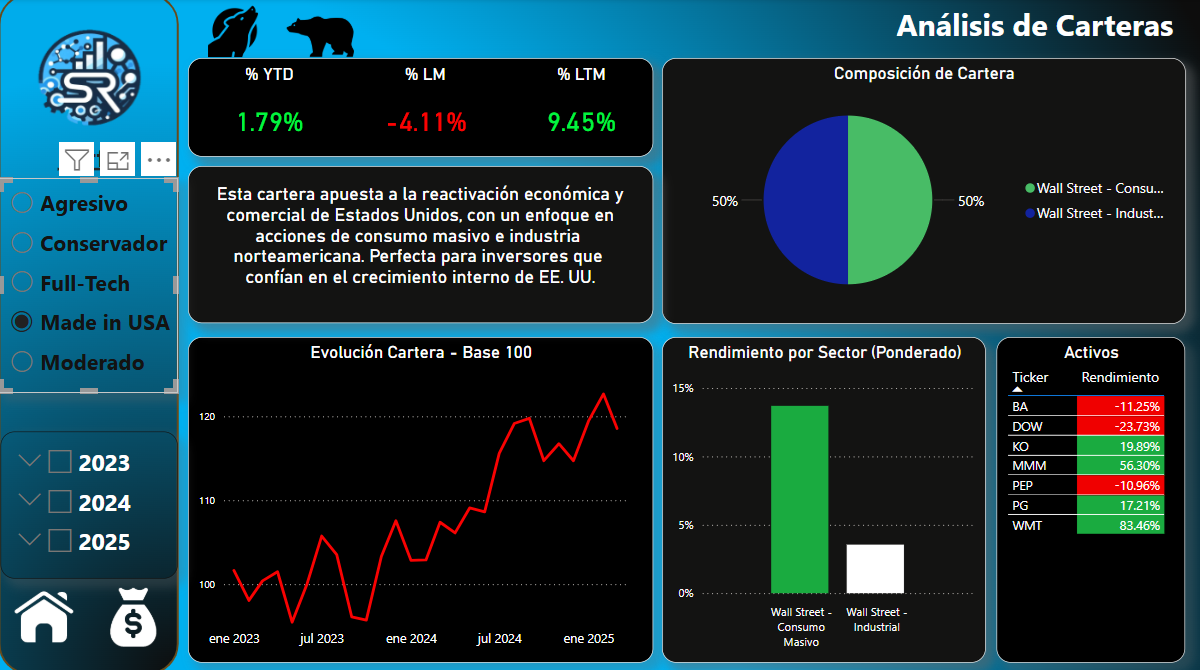

This screenshot's page, from the dashboard's own definition file:
{"tool":"powerbi","page":{"name":"Análisis de Carteras","canvas":[1280,720],"ordinal":1},"visuals":[{"type":"shape","box":[200,63.6,493,105],"z":0},{"type":"lineChart","title":"Evolución Cartera - Base 100","fields":{"Series":["carteras_desc.Cartera"],"Y":["Medidas.Rendimiento Total Cartera","select1"],"Category":["Calendario.Date.Variación.Jerarquía de fechas.Año","Calendario.Date.Variación.Jerarquía de fechas.Trimestre","Calendario.Date.Variación.Jerarquía de fechas.Mes"]},"box":[200,360,493.3,345],"z":1000},{"type":"pieChart","title":"Composición de Cartera","fields":{"Category":["carteras_comp.Tipo_activo"],"Y":["Sum(carteras_comp.Porcentaje)"]},"box":[703.3,63.3,555,281.7],"z":2000},{"type":"clusteredColumnChart","title":"Rendimiento por Sector (Ponderado)","fields":{"Category":["carteras_comp.Tipo_activo"],"Y":["Medidas.Rendimiento Ponderado"]},"box":[703.3,360,343.3,345],"z":3000},{"type":"tableEx","title":"Activos","fields":{"Values":["datos_historicos.Ticker","Medidas.Rendimiento"]},"box":[1058.3,360,200,345],"z":4000},{"type":"card","title":"% LTM","fields":{"Values":["Medidas.Rendimiento Total Cartera"]},"box":[542.4,70,150,98.6],"z":5000},{"type":"card","title":"% YTD","fields":{"Values":["Medidas.Rendimiento Total Cartera"]},"box":[211.6,70,150,98.6],"z":6000},{"type":"card","title":"% LM","fields":{"Values":["Medidas.Rendimiento Total Cartera"]},"box":[377,70,150,98.6],"z":7000},{"type":"card","fields":{"Values":["Min(carteras_desc.Descripcion)"]},"box":[200,178.3,493.3,166.7],"z":8000},{"type":"image","box":[216.7,0,66.7,68],"z":9000},{"type":"slicer","fields":{"Values":["Calendario.Date.Variación.Jerarquía de fechas.Año","Calendario.Date.Variación.Jerarquía de fechas.Trimestre","Calendario.Date.Variación.Jerarquía de fechas.Mes","Calendario.Date.Variación.Jerarquía de fechas.Día"]},"box":[1.6,459.7,187.7,155.9],"z":10000},{"type":"image","box":[250,0,181.7,81.7],"z":11000},{"type":"image","box":[0,615,95,81.7],"z":12000},{"type":"image","box":[95,615,93.3,81.7],"z":13000},{"type":"textbox","box":[1.6,144.7,187.7,46.1],"z":14000},{"type":"slicer","fields":{"Values":["carteras_desc.Cartera"]},"box":[0,190.9,189.3,227.5],"z":15000},{"type":"textbox","box":[946.7,0,333.3,63.3],"z":16000}]}

Visuals, with their boxes on the page's 1280x720 design canvas (x1, y1, x2, y2). These are canvas units, not pixel positions in the 1200x670 screenshot, which may show the page scaled, cropped or inside an application window:
shape: 200:64:693:169
"Evolución Cartera - Base 100" lineChart: 200:360:693:705
"Composición de Cartera" pieChart: 703:63:1258:345
"Rendimiento por Sector (Ponderado)" clusteredColumnChart: 703:360:1047:705
"Activos" tableEx: 1058:360:1258:705
"% LTM" card: 542:70:692:169
"% YTD" card: 212:70:362:169
"% LM" card: 377:70:527:169
card - Min(carteras_desc.Descripcion): 200:178:693:345
image: 217:0:283:68
slicer - Calendario.Date.Variación.Jerarquía de fechas.Año x Calendario.Date.Variación.Jerarquía de fechas.Trimestre: 2:460:189:616
image: 250:0:432:82
image: 0:615:95:697
image: 95:615:188:697
textbox: 2:145:189:191
slicer - carteras_desc.Cartera: 0:191:189:418
textbox: 947:0:1280:63
